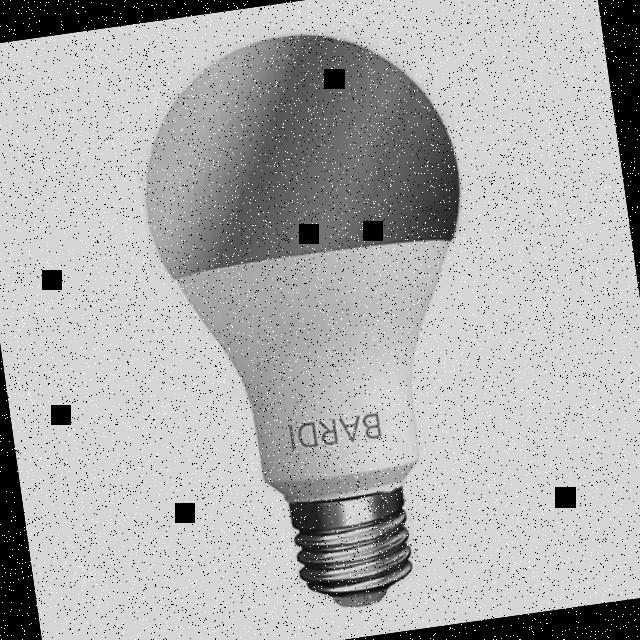light_bulb: (114, 9, 543, 640)
